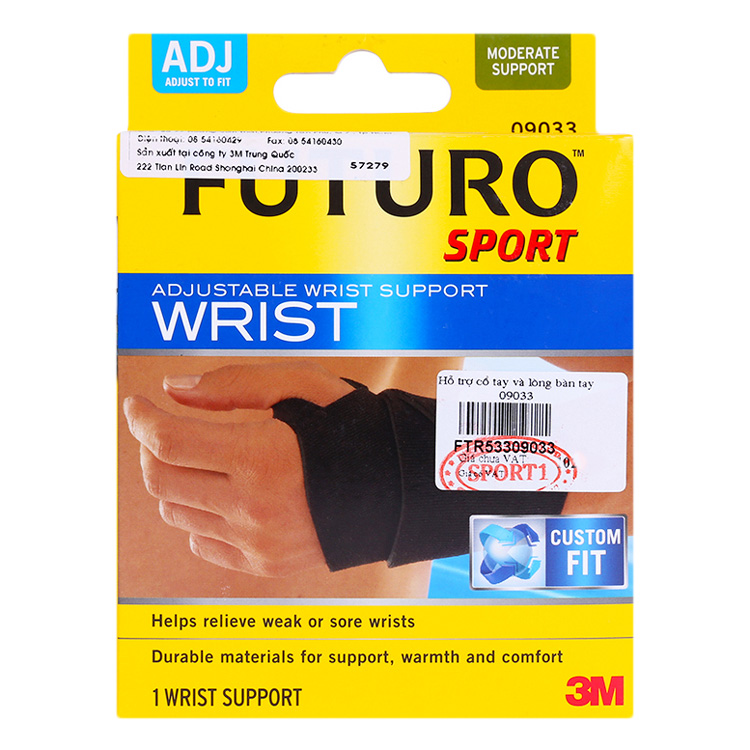3M: (563, 673, 628, 709)
